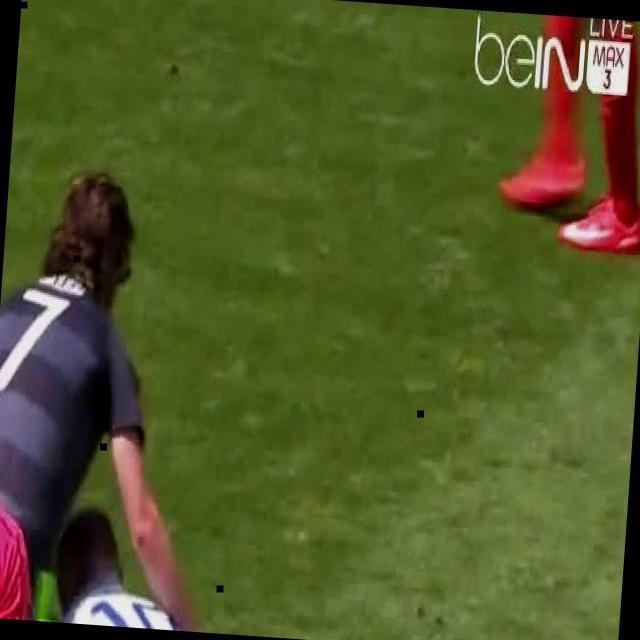player-white: (0, 150, 236, 632), (58, 498, 365, 640), (0, 301, 90, 623)
